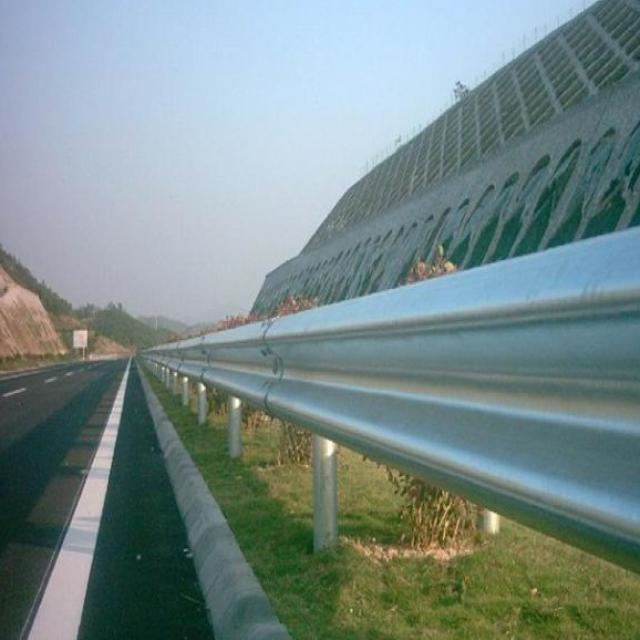Guard rail: (149, 226, 640, 571)
